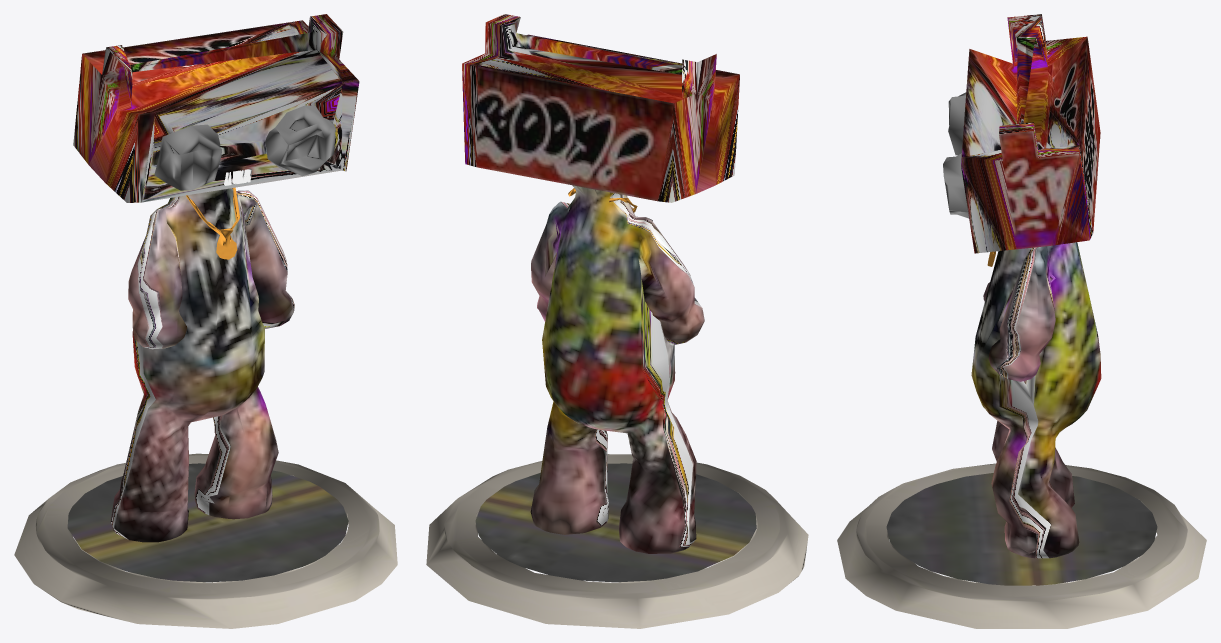
3 renders of one model, left to right at view 1: azimuth 30°, elevation 25°; view 2: azimuth 150°, elevation 25°; view 3: azimuth 270°, elevation 25°, orthographic. The views are drawn at different scales.
Bounding box in the file's own units: 1.42 × 2.12 × 1.43.
Materials: 7 (5 with a texture image).
